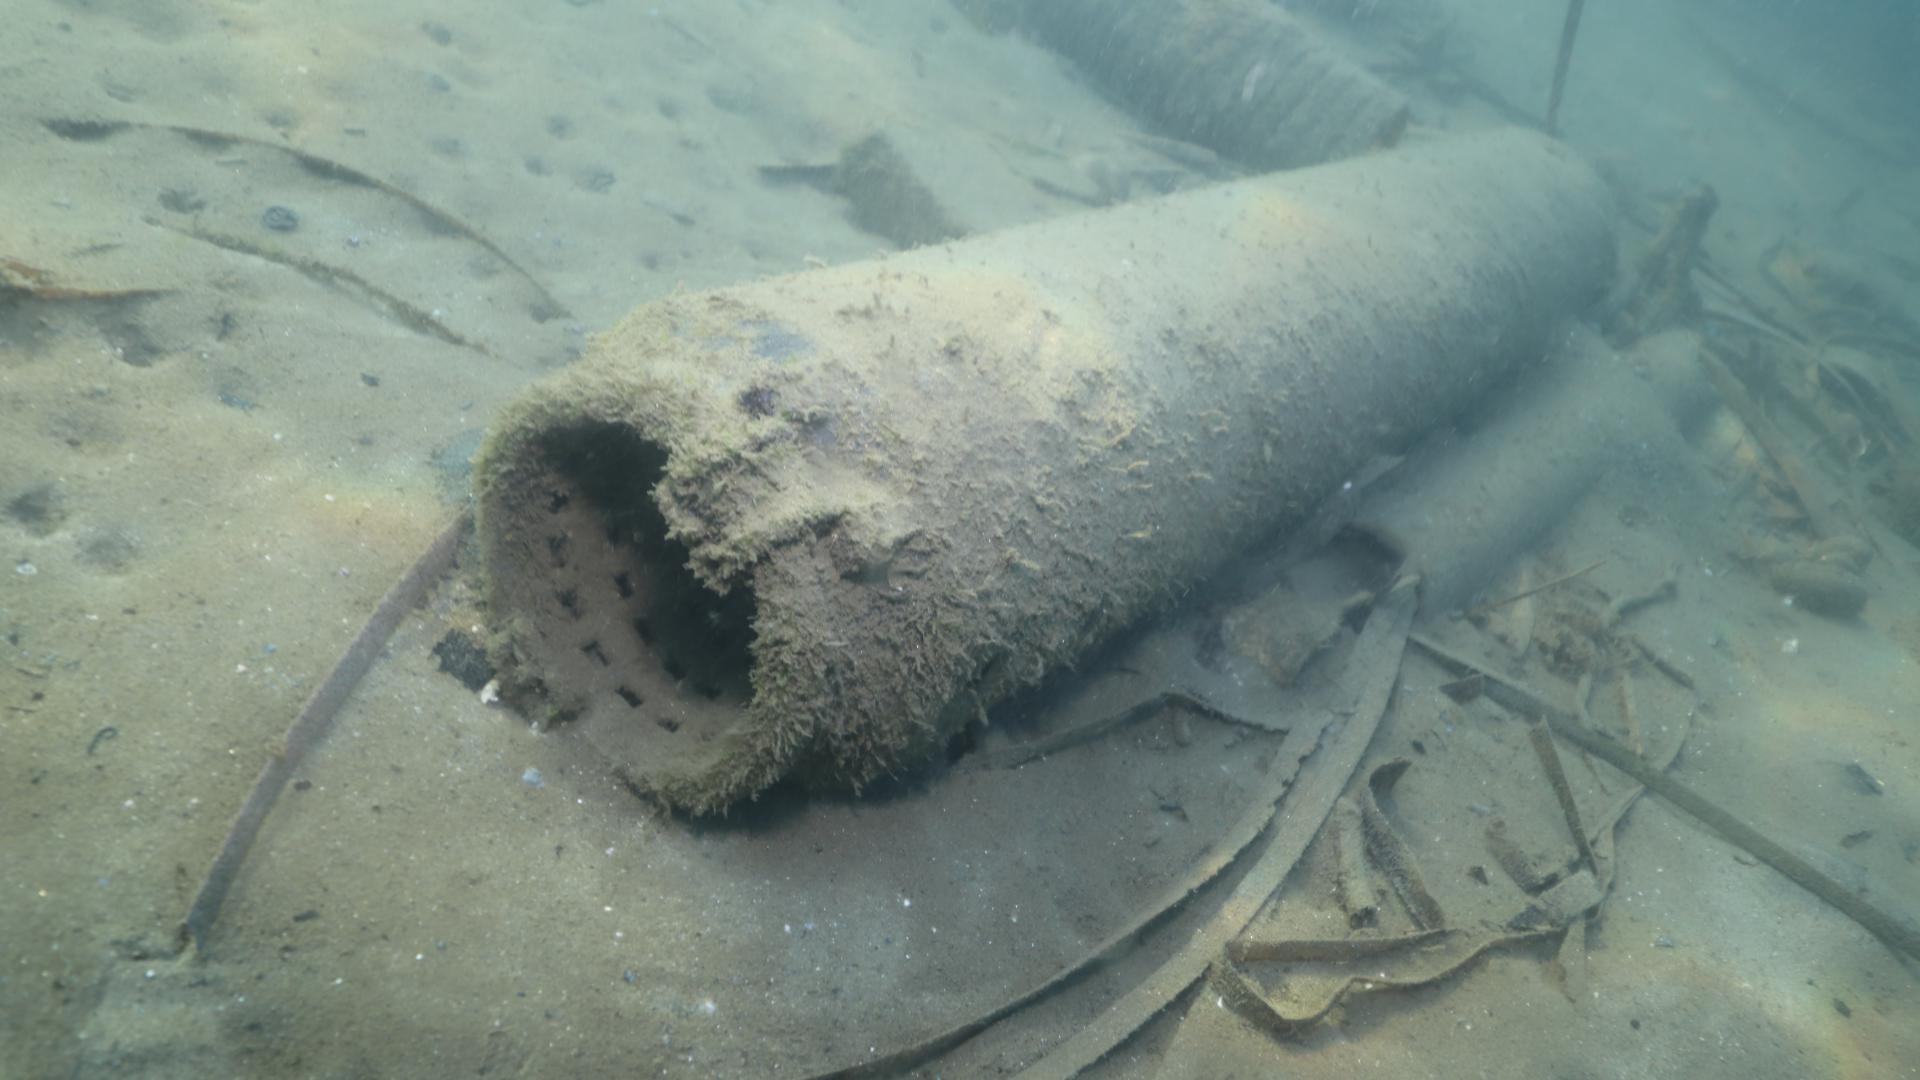eel fish trap: (467, 128, 1619, 825)
